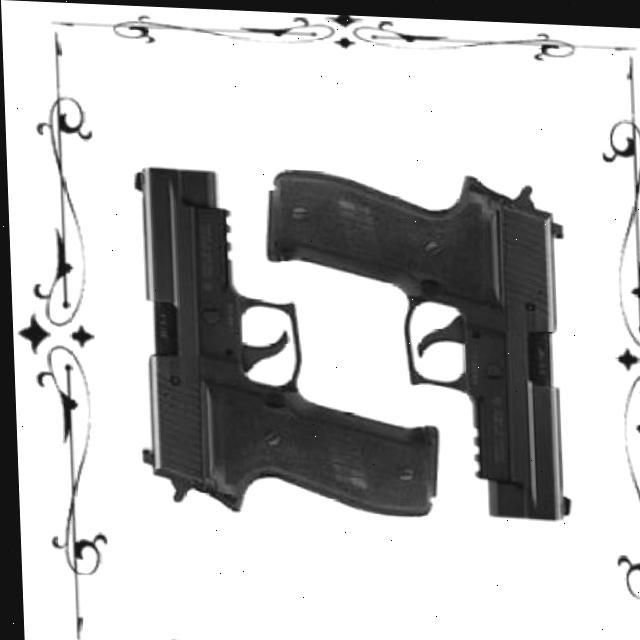gun: (128, 164, 434, 516), (260, 167, 568, 515)
